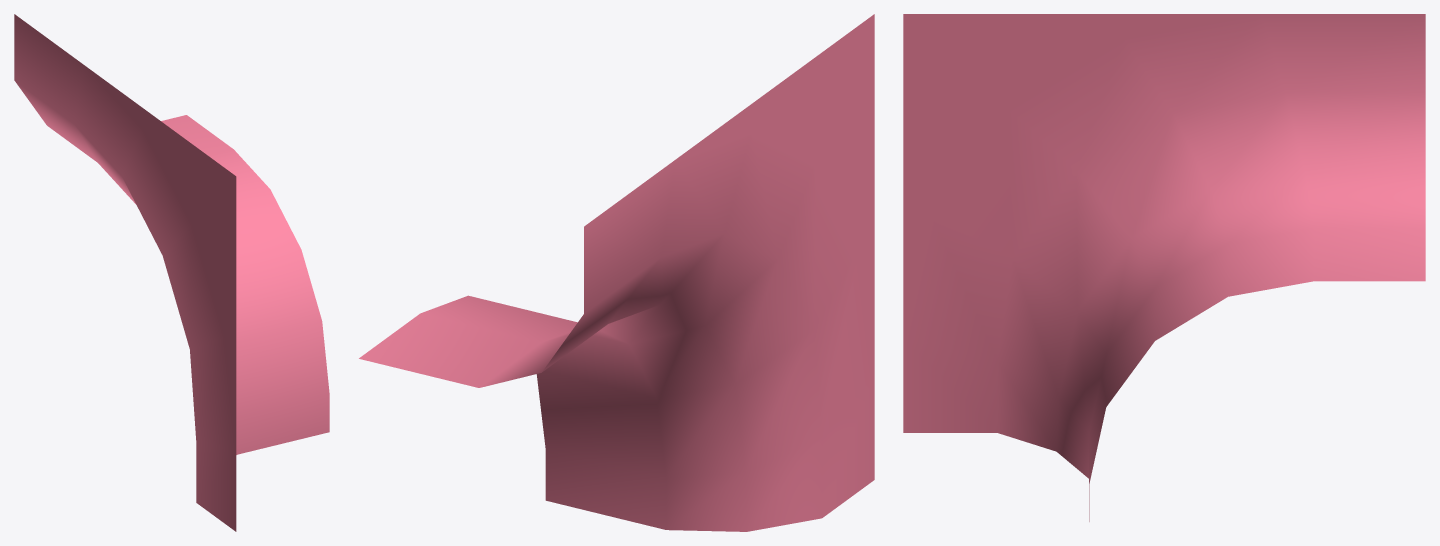
File: SM_M_drop_5.fbx
3 renders of one model, left to right at view 1: azimuth 30°, elevation 25°; view 2: azimuth 150°, elevation 25°; view 3: azimuth 270°, elevation 25°, orthographic. The views are drawn at different scales.
Visible parts, largest first — view 1: SM_M_drop_5; view 2: SM_M_drop_5; view 3: SM_M_drop_5.
Boxes of the visible parts, x1,y1,x2,y2 form: SM_M_drop_5: (14, 14, 329, 531); SM_M_drop_5: (359, 14, 874, 531); SM_M_drop_5: (903, 14, 1425, 521).
Size of the model in its own units: 164 by 324 by 366.
Materials: 1 (1 with a texture image).
